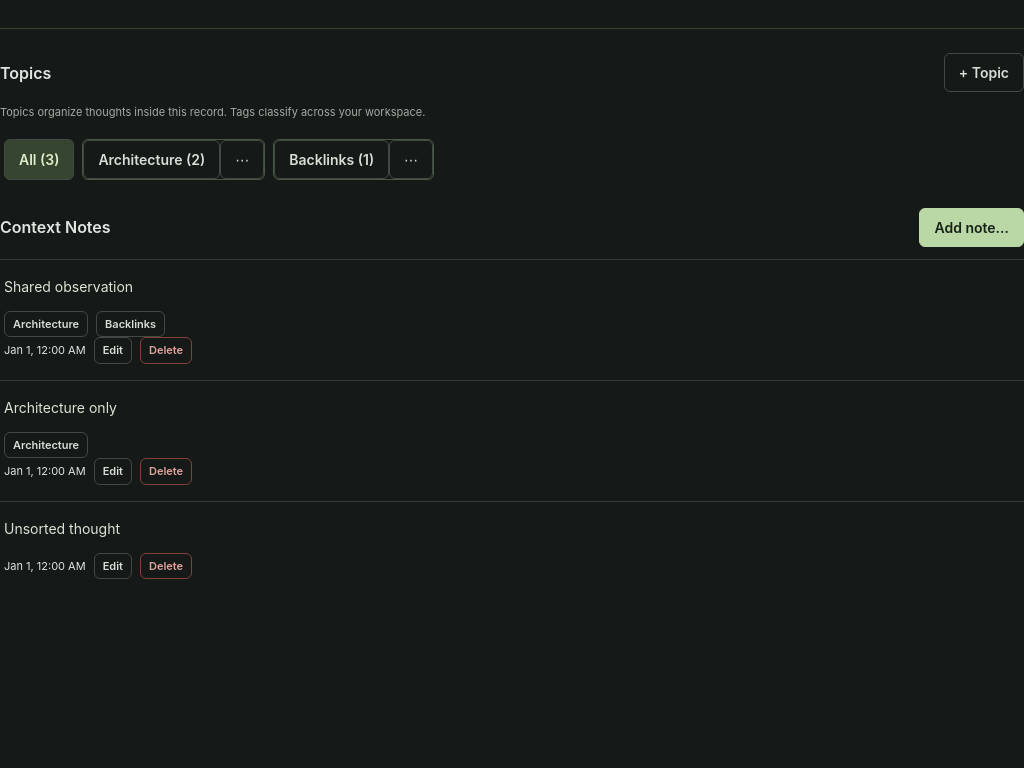
Scenario: deleting a Topic keeps its notes and their other memberships
Click the button named "Manage topic Architecture". click: (242, 159)
box: [220,140,264,178]
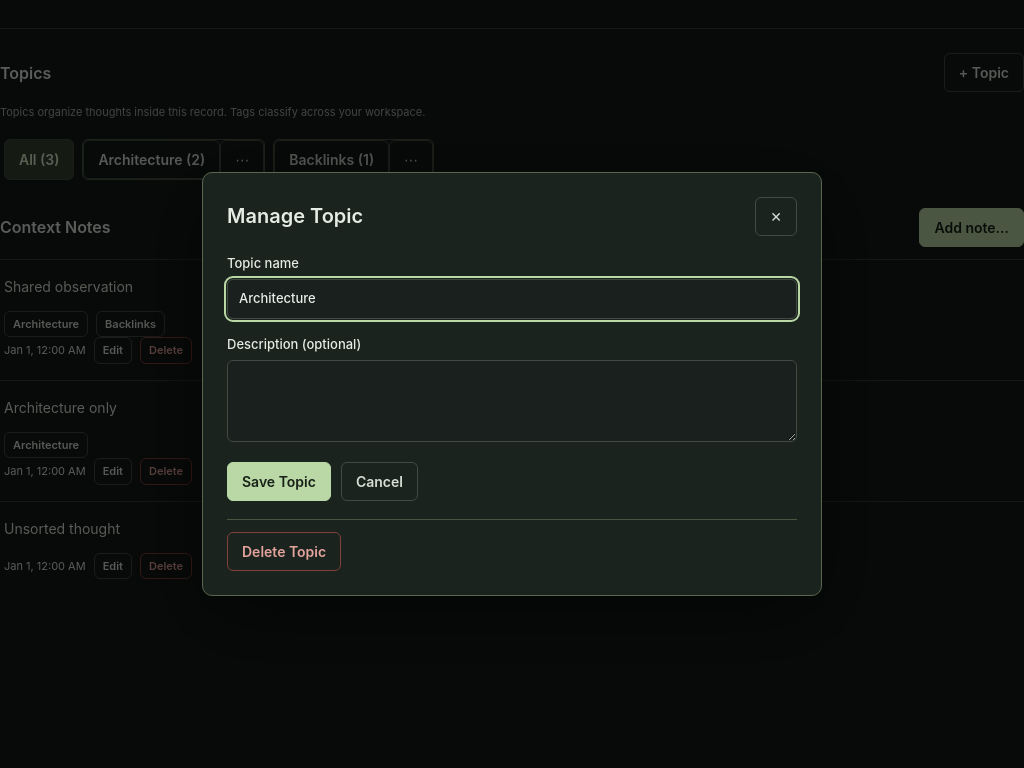
Click the button "Delete Topic". click: (284, 552)
box: [227,532,341,571]
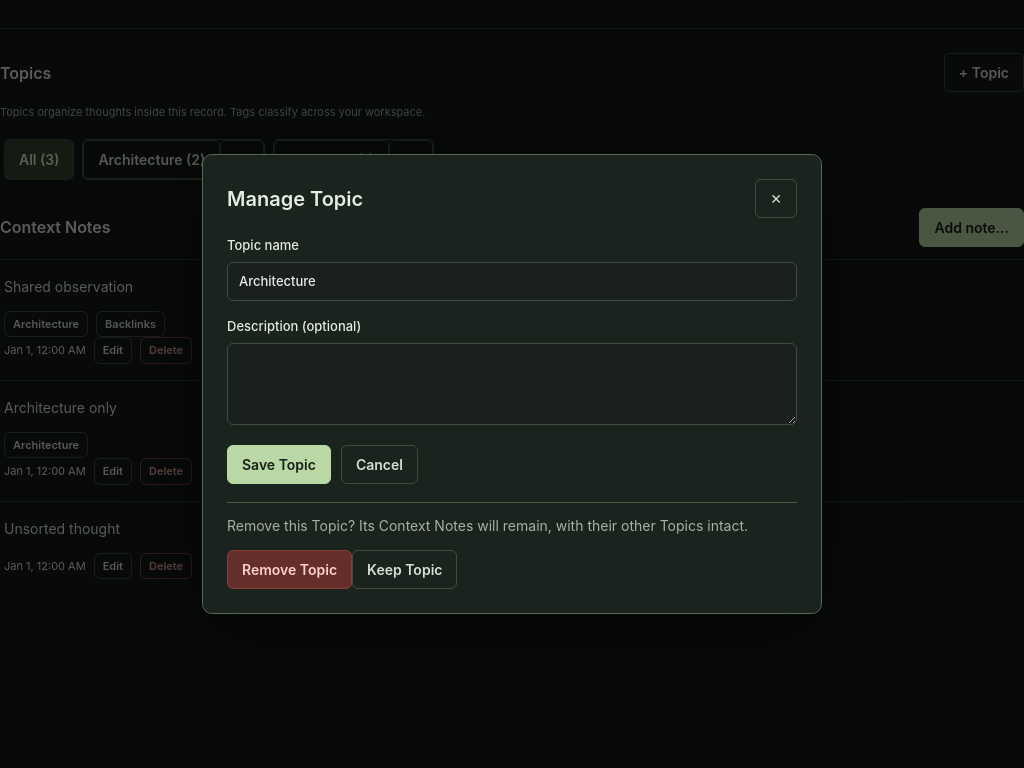
Click the button "Remove Topic". click: (290, 569)
box: [227,550,352,589]
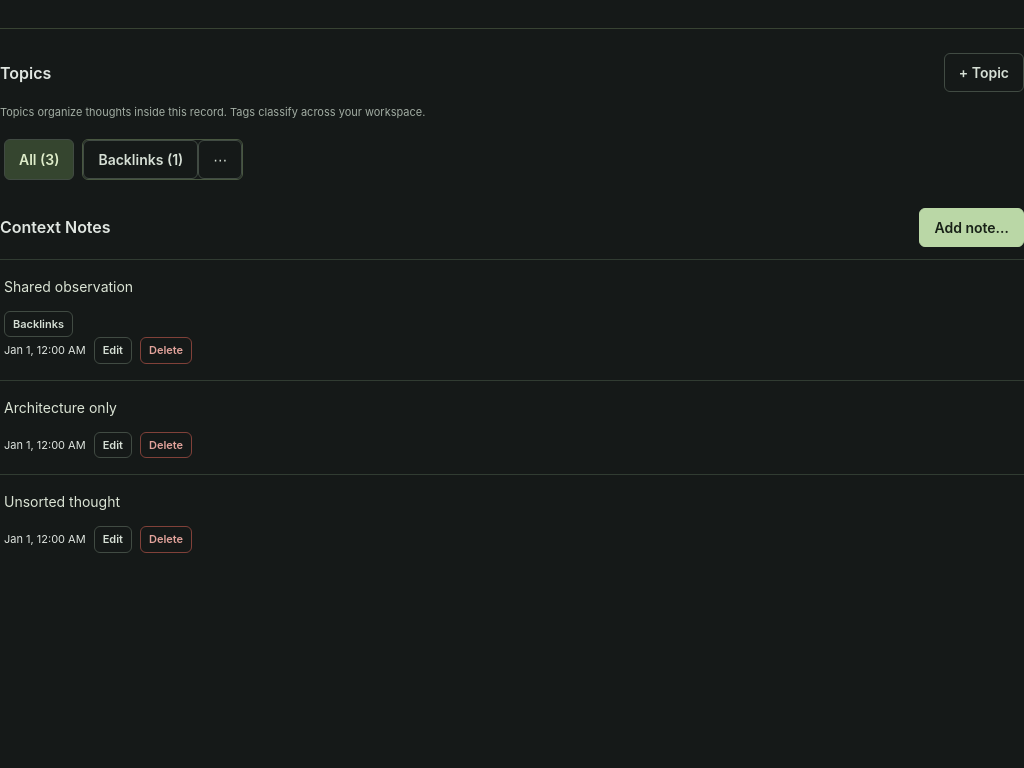
Check: the button "Backlinks (1)" is shown, box [83,140,198,178]
Check: the button "Architecture (2)" is gone
